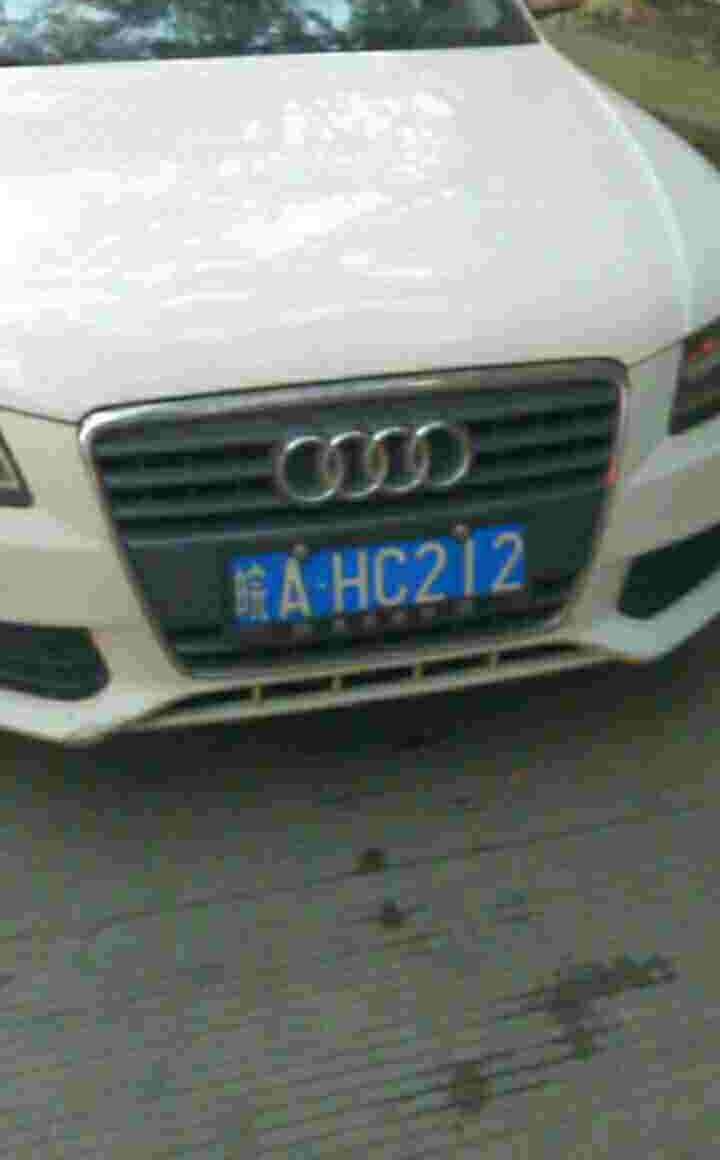car: (214, 542, 539, 621)
